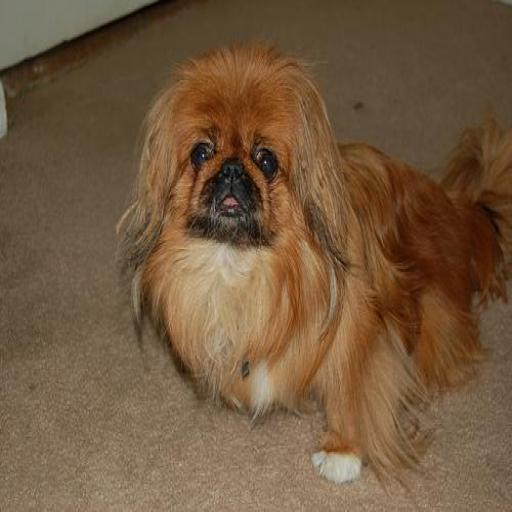dog_face: (136, 58, 339, 260)
